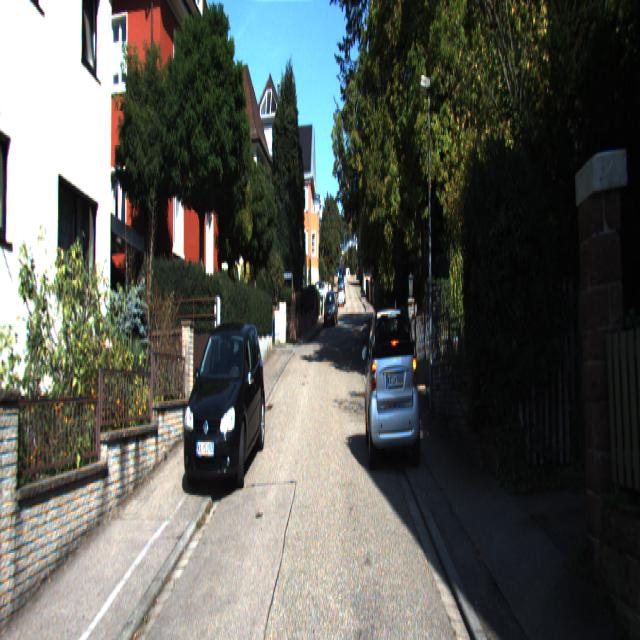Car: (180, 316, 266, 497), (363, 300, 422, 473), (322, 296, 338, 330)
